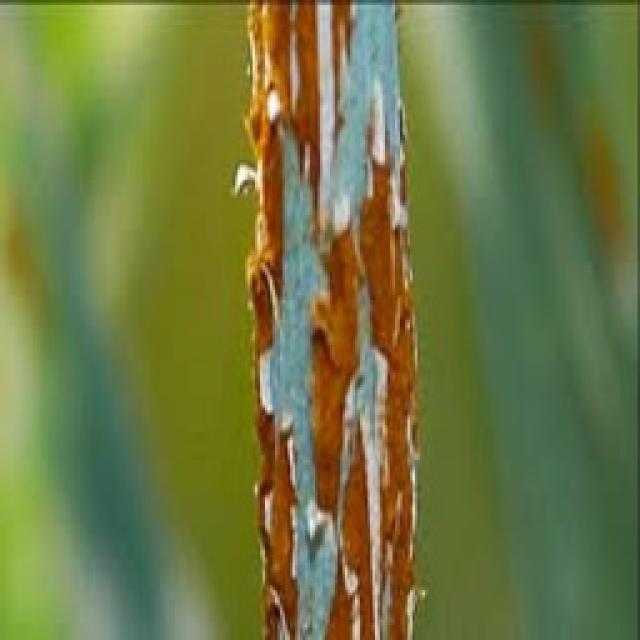Brown Rust: (235, 0, 420, 638)
